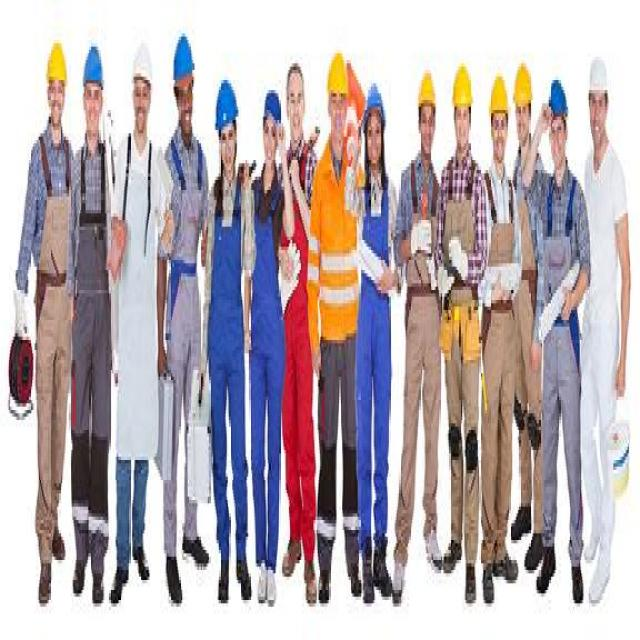Reflective-Jacket: (311, 140, 358, 343)
Safety-Helmet: (213, 70, 240, 133), (171, 27, 196, 86), (451, 54, 475, 114), (326, 43, 350, 100), (512, 53, 534, 110), (81, 36, 106, 86), (587, 47, 610, 100), (130, 34, 154, 84), (46, 36, 68, 86), (488, 66, 510, 116), (417, 63, 438, 110)
